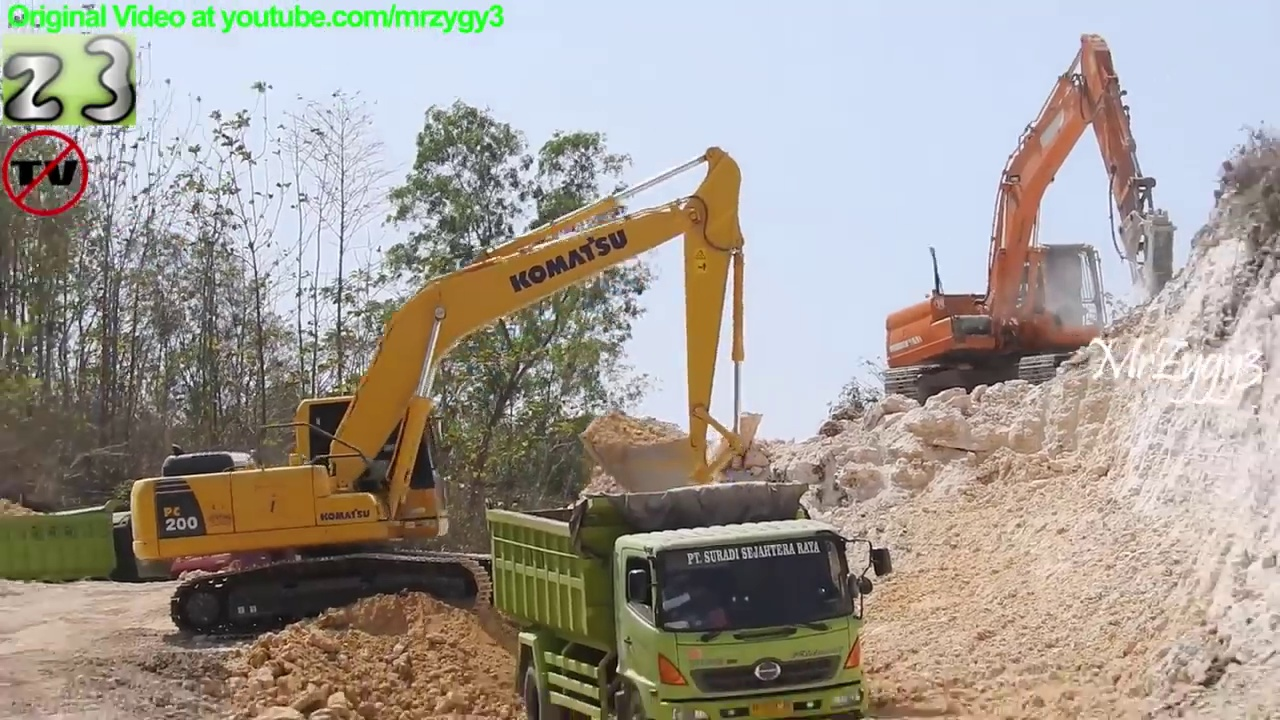excavator: (129, 143, 764, 650)
excavator breaker: (877, 26, 1178, 409)
truck: (478, 472, 903, 720), (1, 490, 206, 614)
